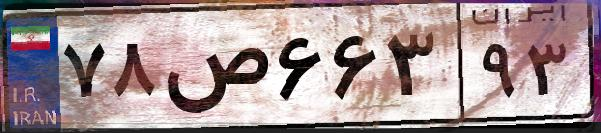3: (385, 28, 445, 110), (525, 38, 570, 115)
6: (270, 28, 330, 110), (330, 28, 385, 110)
7: (57, 26, 110, 100)
8: (110, 28, 158, 98)
9: (475, 38, 525, 113)
ص: (158, 20, 270, 120)
